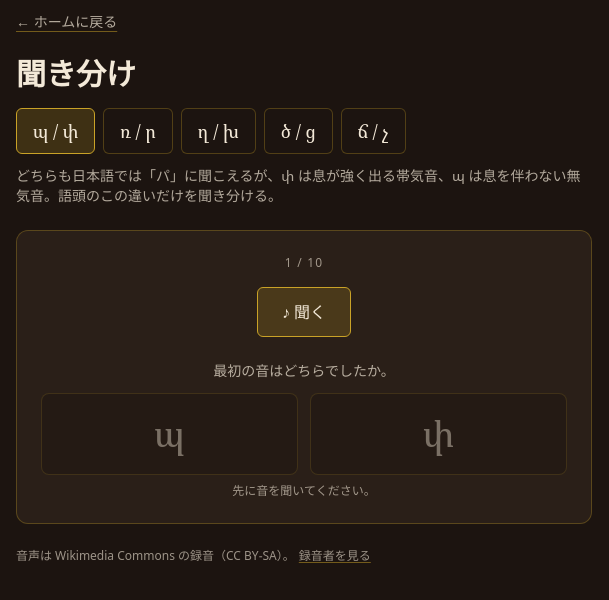
Test: 2項対立の切り替え › shows one contrast at a time and switches the whole set on the tab
What coordinates should you click on to do the following:
click the tab "ռ / ր"
I would click on:
 (138, 131)
Its box is [103,108,173,154].
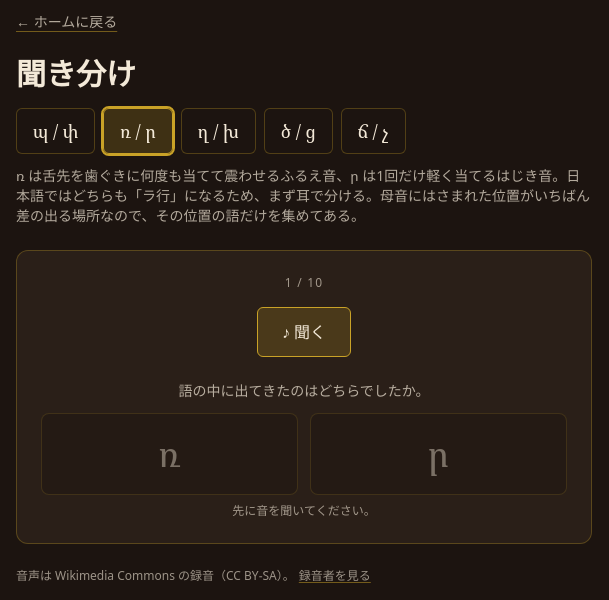
Expected: the text "ռ は舌先を歯ぐきに何度も当てて震わせるふるえ音、ր は1回だけ軽く当てるはじき音。日本語ではどちらも「ラ行」になるため、まず耳で分ける。母音にはさまれた位置がいちばん差の出る場所なので、その位置の語だけを集めてある。" is shown, [16,166,590,225]
